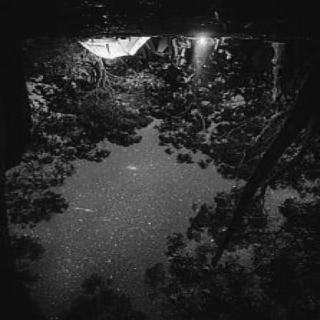Fire: (178, 34, 225, 78)
other: (67, 53, 153, 103), (70, 30, 158, 63), (268, 37, 288, 104)
